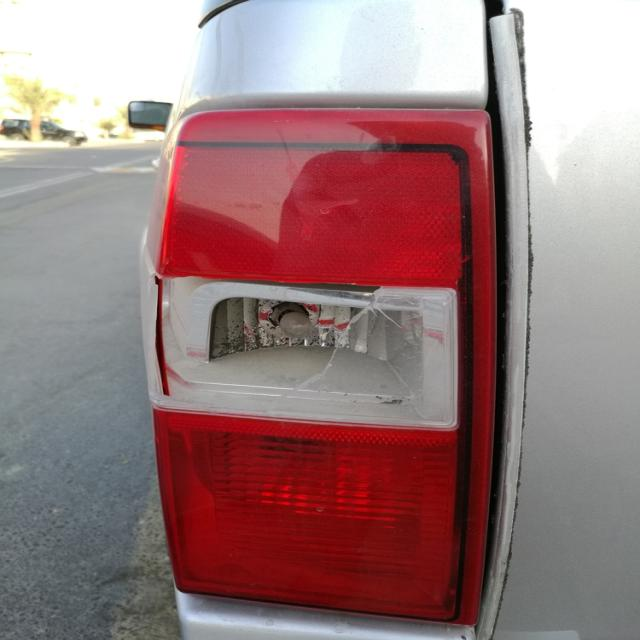lamp broken: (140, 106, 502, 629)
